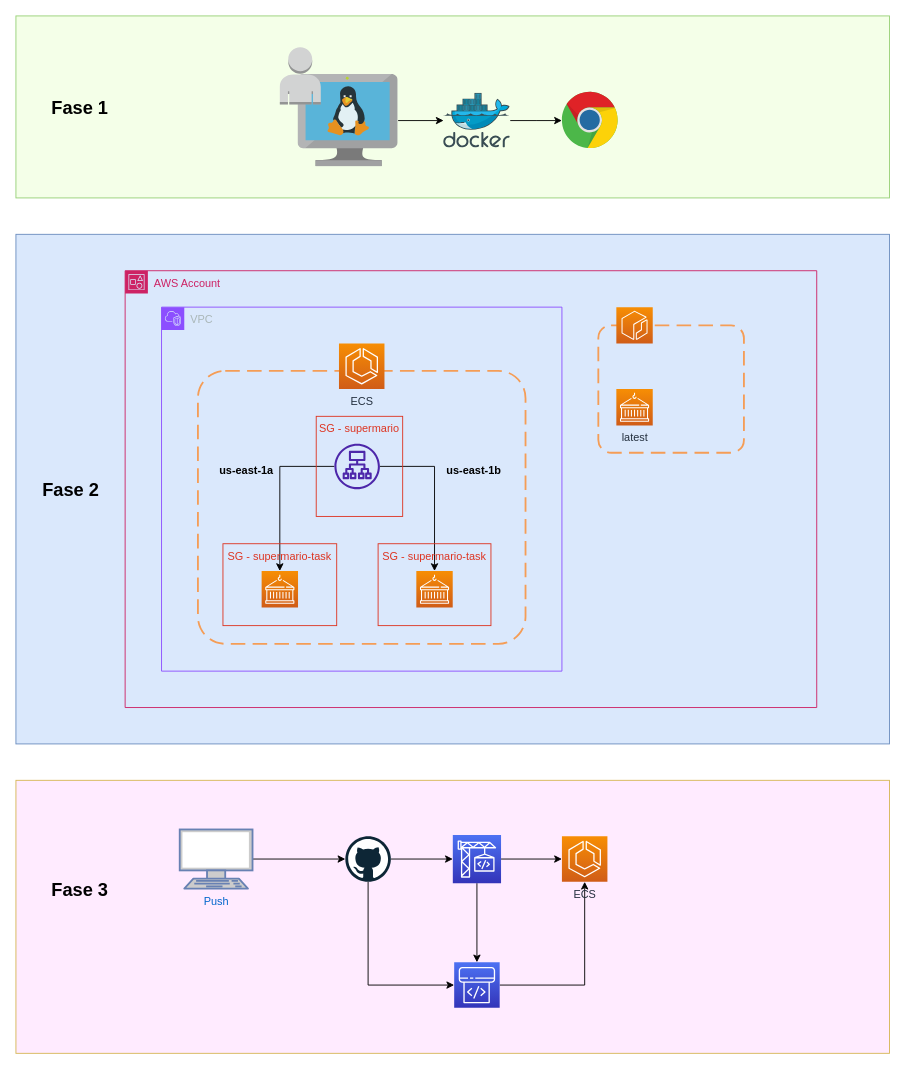
Image size: 905x1069. Some labels were removed from this diagram. Each missing label, with the centre of its shape:
ALB: the point at 356,466
Code Pipeline: the point at 476,984
CodeBuild Build Application: the point at 476,858
ECR - Elastic Container Registry: the point at 634,325
GitHub Repo: the point at 367,858
